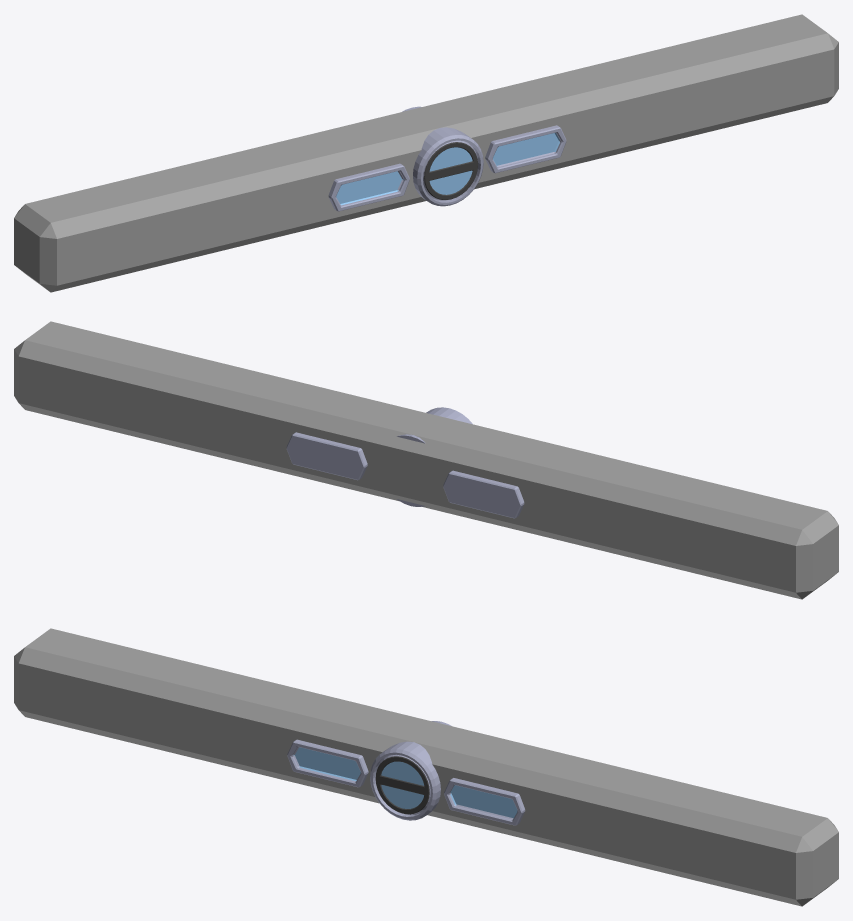
The model's file is SpaceStation.fbx.
3 views of the same model, one above another, from view 1: azimuth 30°, elevation 25°; view 2: azimuth 150°, elevation 25°; view 3: azimuth 330°, elevation 25° (orthographic).
Parts seen in each view (by area): view 1: Cube.003, Cube.002, Cube, Cube.001, Cylinder, Cylinder.001; view 2: Cube.003, Cube.002, Cube, Cube.001, Cylinder; view 3: Cube.002, Cube.003, Cube, Cube.001, Cylinder, Cylinder.001.
Boxes of the visible parts, left/top/right/bottom form: Cube.003: left=14, top=141, right=319, bottom=292; Cube.002: left=540, top=14, right=838, bottom=165; Cube: left=283, top=77, right=575, bottom=229; Cube.001: left=328, top=125, right=566, bottom=211; Cylinder: left=402, top=106, right=483, bottom=206; Cylinder.001: left=424, top=142, right=477, bottom=199; Cube.003: left=533, top=448, right=838, bottom=599; Cube.002: left=14, top=321, right=312, bottom=473; Cube: left=275, top=385, right=569, bottom=535; Cube.001: left=286, top=432, right=524, bottom=518; Cylinder: left=397, top=407, right=472, bottom=506; Cube.002: left=534, top=754, right=838, bottom=906; Cube.003: left=14, top=628, right=312, bottom=779; Cube: left=276, top=691, right=570, bottom=843; Cube.001: left=287, top=739, right=525, bottom=825; Cylinder: left=370, top=721, right=451, bottom=820; Cylinder.001: left=375, top=756, right=429, bottom=814.
Size of the model in its own units: 2398 by 200 by 247.
